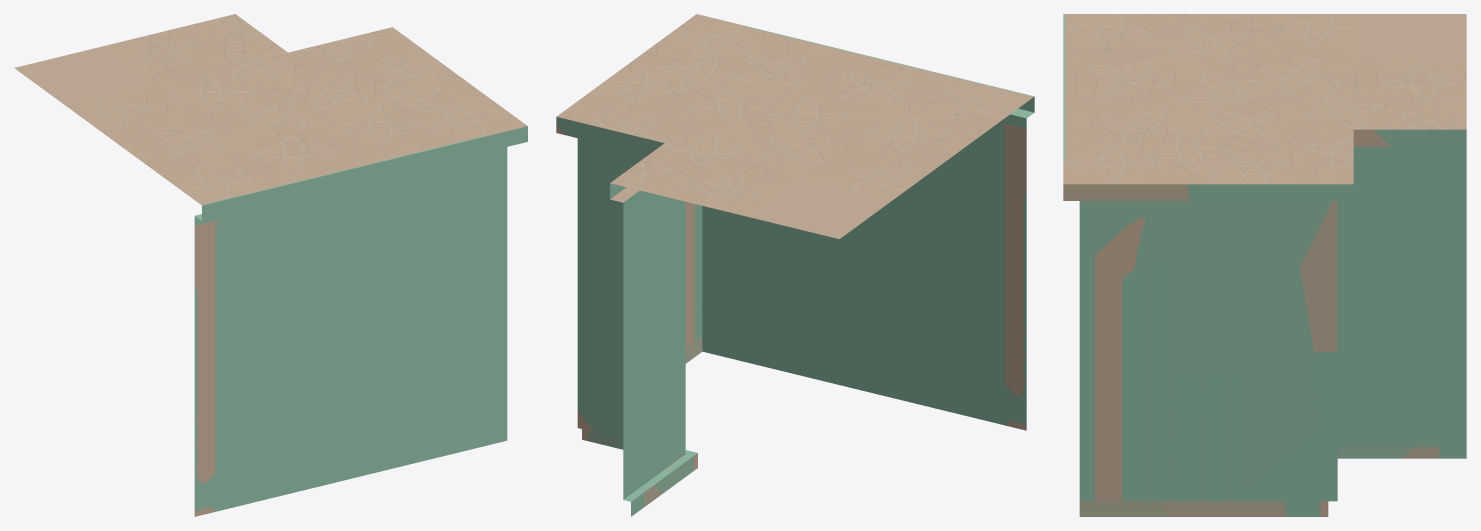
The model's file is Corner1.fbx.
The picture shows the model from 3 angles, left to right: view 1: azimuth 30°, elevation 25°; view 2: azimuth 150°, elevation 25°; view 3: azimuth 270°, elevation 25°; orthographic projection. The views are drawn at different scales.
Visible parts, largest first — view 1: Counter_Corner7; view 2: Counter_Corner7; view 3: Counter_Corner7.
Boxes of the visible parts, x1,y1,x2,y2 form: Counter_Corner7: (14, 14, 527, 516); Counter_Corner7: (556, 14, 1034, 516); Counter_Corner7: (1063, 14, 1466, 516).
Bounding box in the file's own units: 1.04 × 0.9682 × 1.04.
